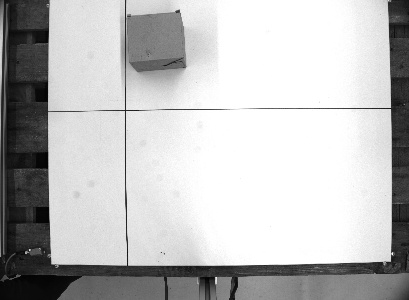b5: (123, 7, 188, 72)
